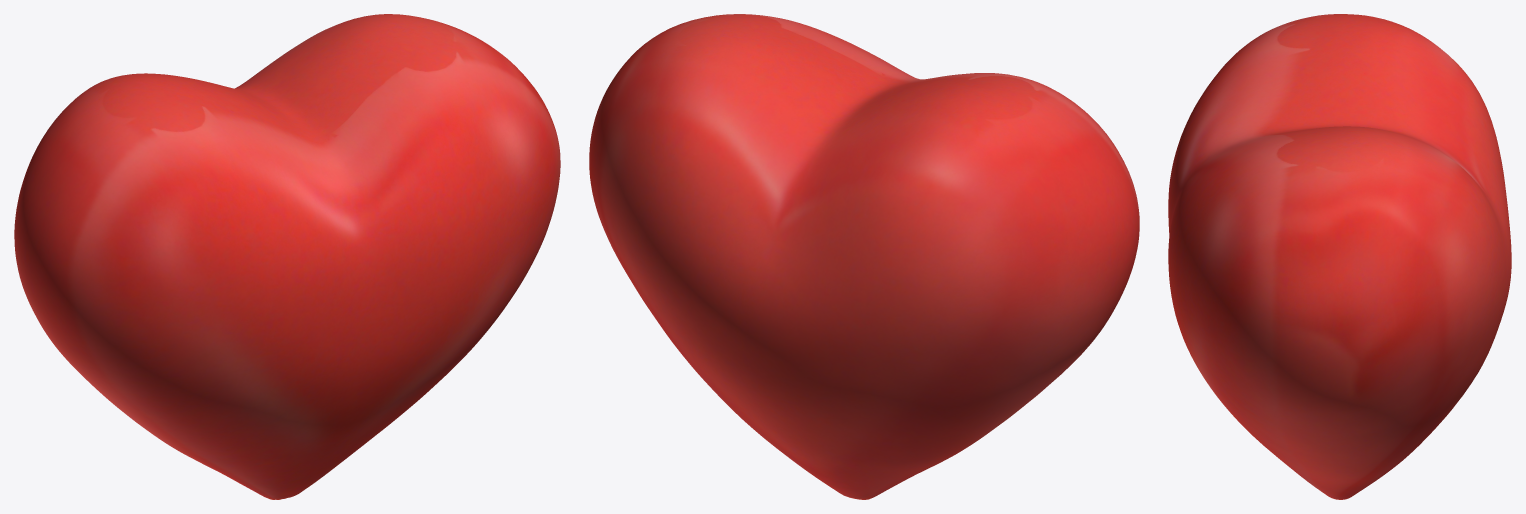
3 renders of one model, left to right at view 1: azimuth 30°, elevation 25°; view 2: azimuth 150°, elevation 25°; view 3: azimuth 270°, elevation 25°, orthographic. The views are drawn at different scales.
Size of the model in its own units: 2 by 1.63 by 1.23.
Materials: 1 (1 with a texture image).
